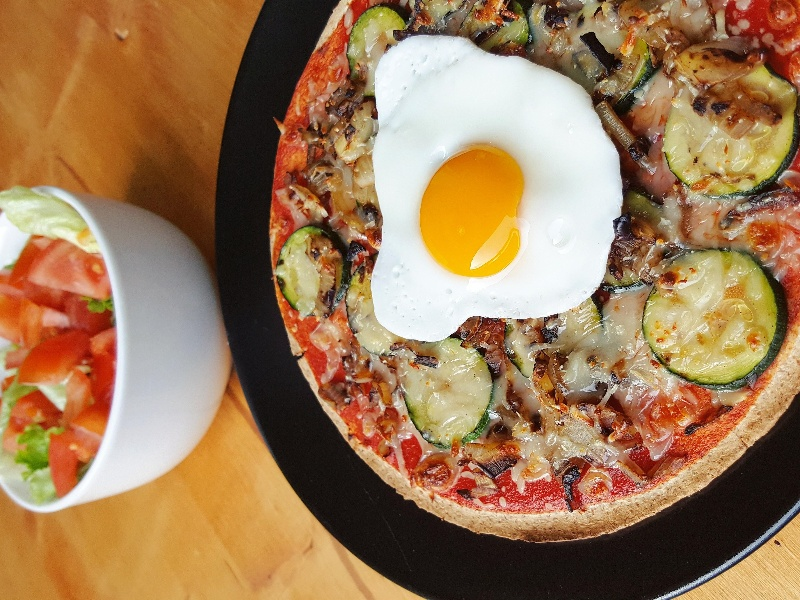oeuf: (399, 114, 548, 301)
